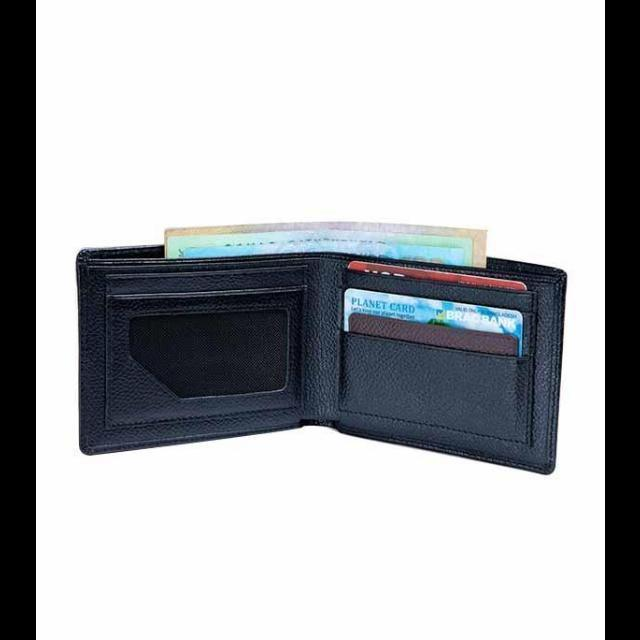wallet: (70, 229, 566, 479)
